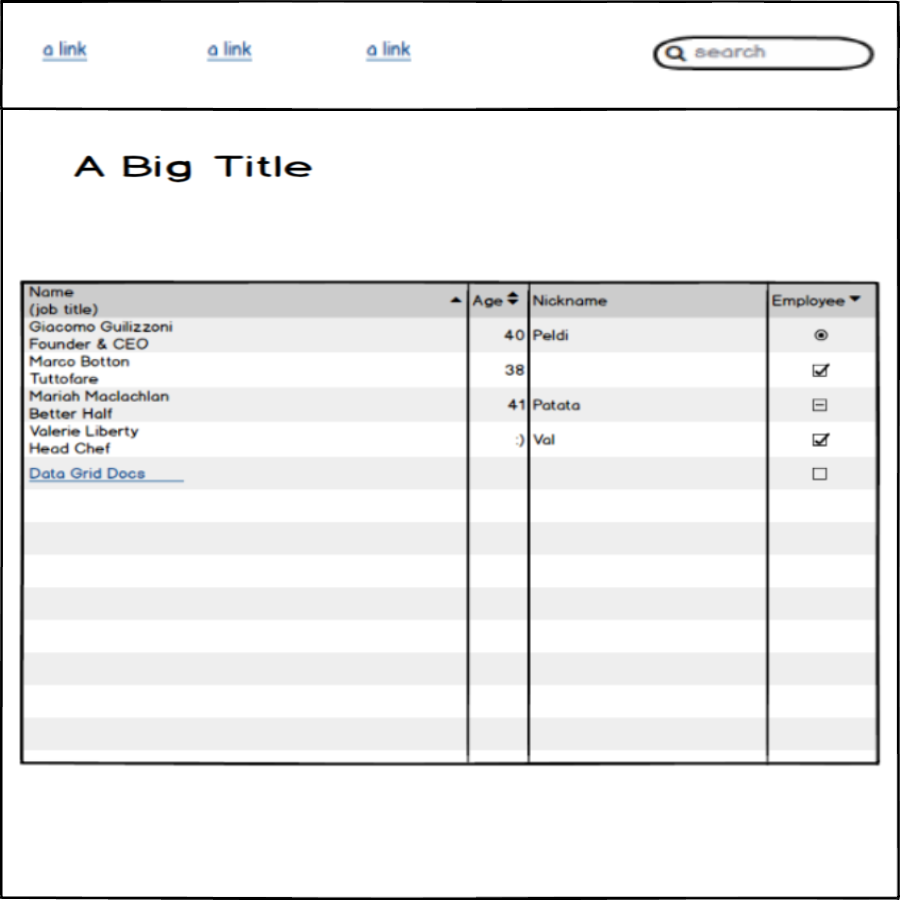h1: (53, 145, 323, 186)
navlink: (34, 29, 97, 71), (361, 30, 419, 67), (197, 36, 267, 66)
search: (645, 26, 878, 81)
table: (16, 273, 885, 770)
